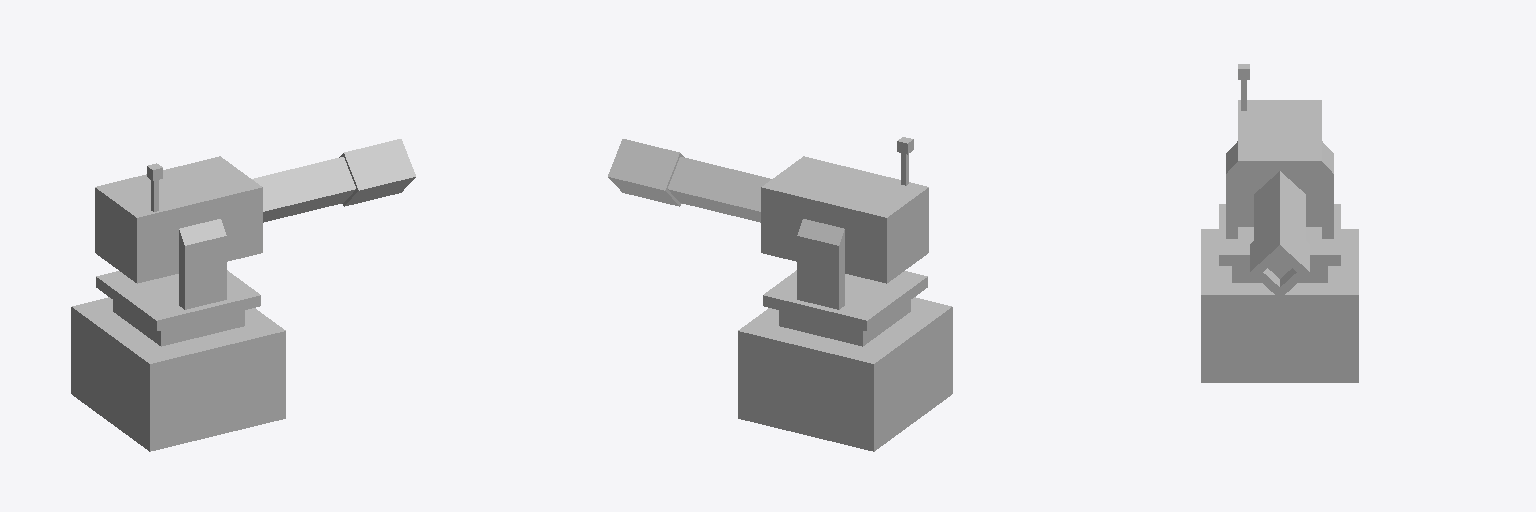
The model's file is turret.obj.
The picture shows the model from 3 angles: view 1: azimuth 30°, elevation 25°; view 2: azimuth 150°, elevation 25°; view 3: azimuth 270°, elevation 25°; orthographic projection.
Visible parts, largest first — view 1: Base_Cube_1, Head_Cube_6, Base_3_Cube_3, Barrel_Cube_9, Claw_1_Cube_4, Barrel_Tip_Cube_10, Base_2_Cube_2; view 2: Base_Cube_1, Head_Cube_6, Base_3_Cube_3, Barrel_Cube_9, Claw_2_Cube_5, Barrel_Tip_Cube_10, Base_2_Cube_2; view 3: Base_Cube_1, Head_Cube_6, Barrel_Tip_Cube_10, Base_3_Cube_3, Barrel_Cube_9, Claw_2_Cube_5, Claw_1_Cube_4, Base_2_Cube_2.
Part boxes in pixels (bbox=[...]): Base_Cube_1: bbox=[71, 297, 285, 451]; Head_Cube_6: bbox=[95, 156, 262, 283]; Base_3_Cube_3: bbox=[96, 270, 260, 331]; Barrel_Cube_9: bbox=[252, 157, 355, 222]; Claw_1_Cube_4: bbox=[179, 219, 226, 309]; Barrel_Tip_Cube_10: bbox=[339, 139, 415, 206]; Base_2_Cube_2: bbox=[113, 300, 244, 346]; Base_Cube_1: bbox=[738, 297, 952, 451]; Head_Cube_6: bbox=[761, 156, 928, 283]; Base_3_Cube_3: bbox=[763, 270, 927, 331]; Barrel_Cube_9: bbox=[668, 157, 771, 222]; Claw_2_Cube_5: bbox=[797, 219, 844, 309]; Barrel_Tip_Cube_10: bbox=[608, 139, 684, 206]; Base_2_Cube_2: bbox=[779, 300, 910, 346]; Base_Cube_1: bbox=[1201, 229, 1358, 382]; Head_Cube_6: bbox=[1238, 100, 1321, 226]; Barrel_Tip_Cube_10: bbox=[1250, 217, 1309, 298]; Base_3_Cube_3: bbox=[1219, 204, 1340, 265]; Barrel_Cube_9: bbox=[1254, 171, 1305, 239]; Claw_2_Cube_5: bbox=[1322, 141, 1333, 238]; Claw_1_Cube_4: bbox=[1226, 141, 1237, 238]; Base_2_Cube_2: bbox=[1232, 266, 1327, 282].
Size of the model in its own units: 2.77 by 2.4 by 1.3.